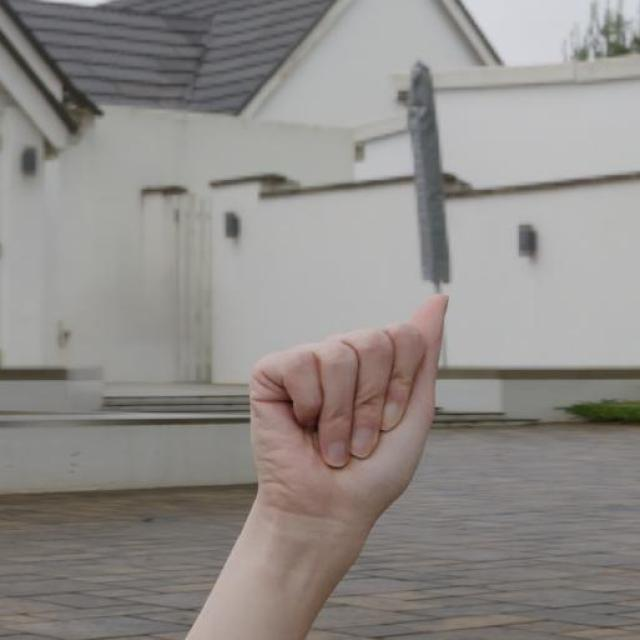A: (234, 290, 452, 532)
